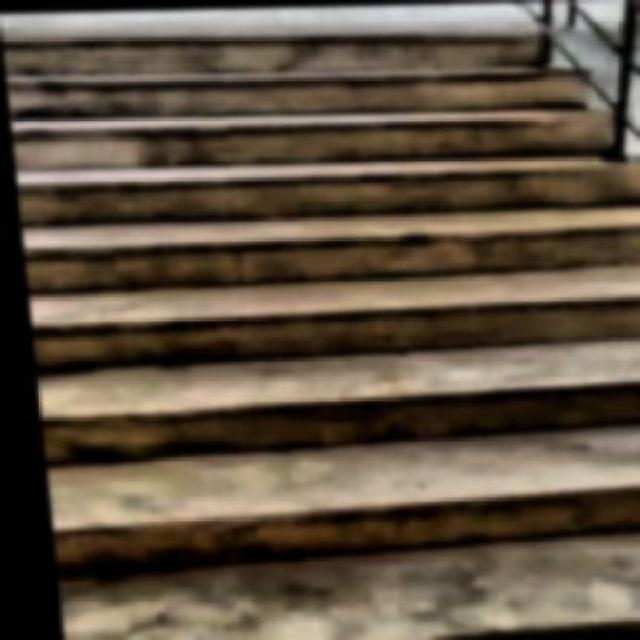stair: (3, 16, 640, 638)
